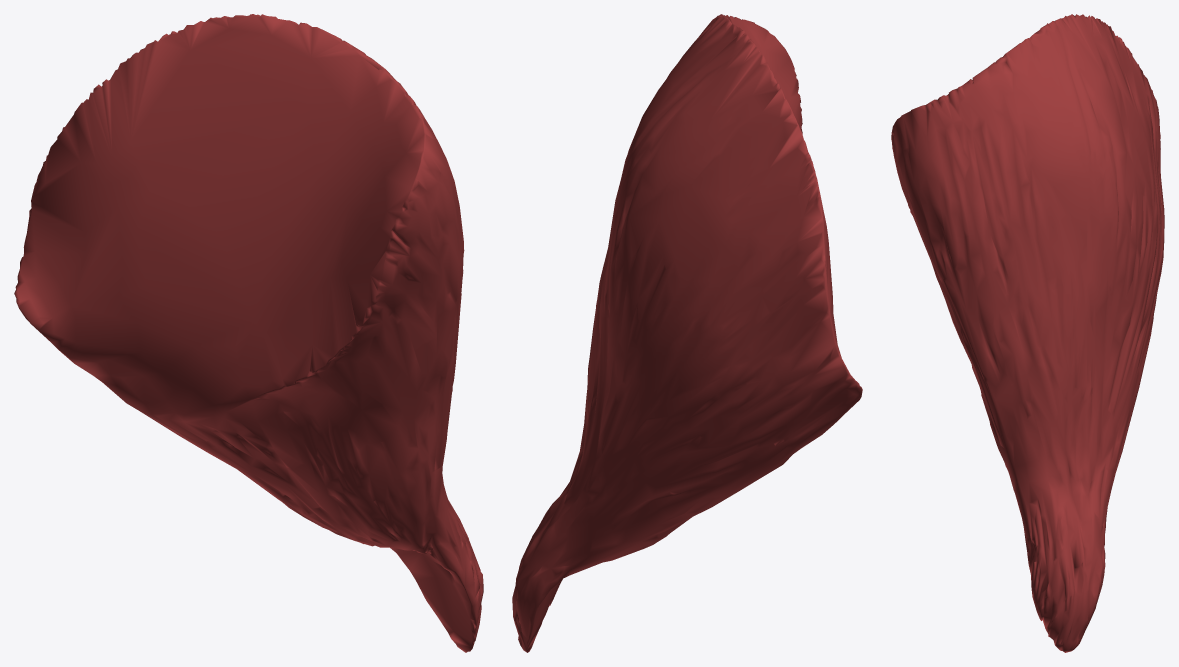
File: gluteus-minimus-muscle-l.glb
3 views of the same model, side by side, from view 1: azimuth 30°, elevation 25°; view 2: azimuth 150°, elevation 25°; view 3: azimuth 270°, elevation 25° (orthographic). The views are drawn at different scales.
Visible parts, largest first — view 1: Gluteus minimus muscle.l; view 2: Gluteus minimus muscle.l; view 3: Gluteus minimus muscle.l.
Part boxes in pixels (x1,y1,x2,y2): Gluteus minimus muscle.l: (14, 14, 483, 652); Gluteus minimus muscle.l: (512, 14, 862, 652); Gluteus minimus muscle.l: (891, 14, 1164, 652).
Size of the model in its own units: 0.0828 by 0.1345 by 0.0608.
